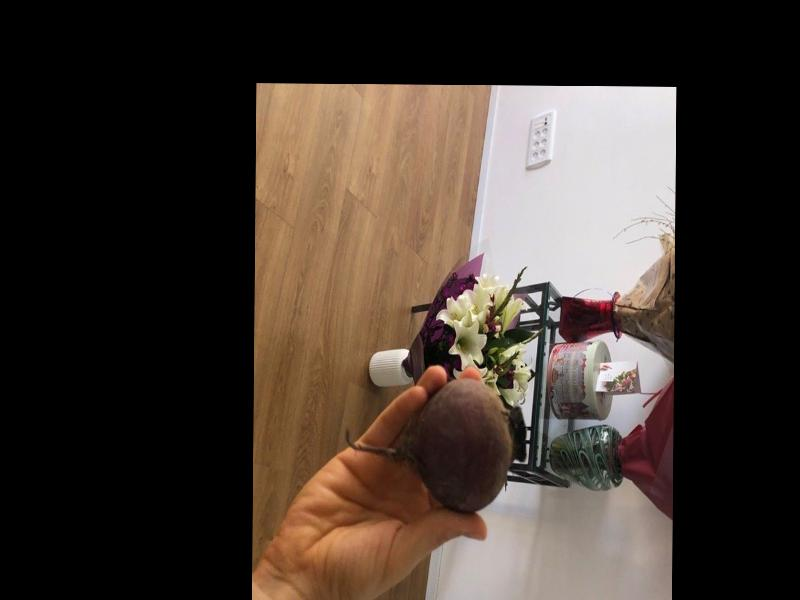Beet: (345, 376, 527, 513)
